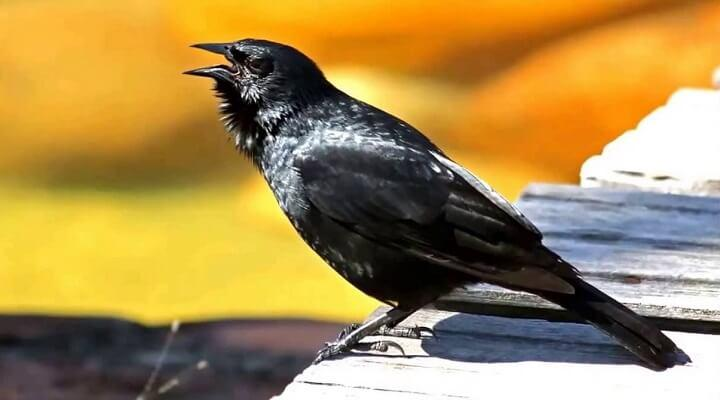grauna: (181, 34, 697, 373)
